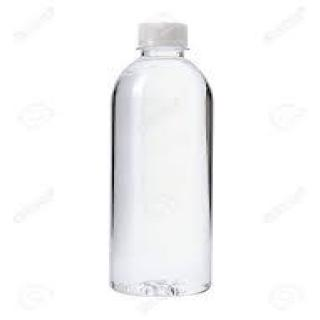Plastic-bottle: (105, 21, 220, 302)
